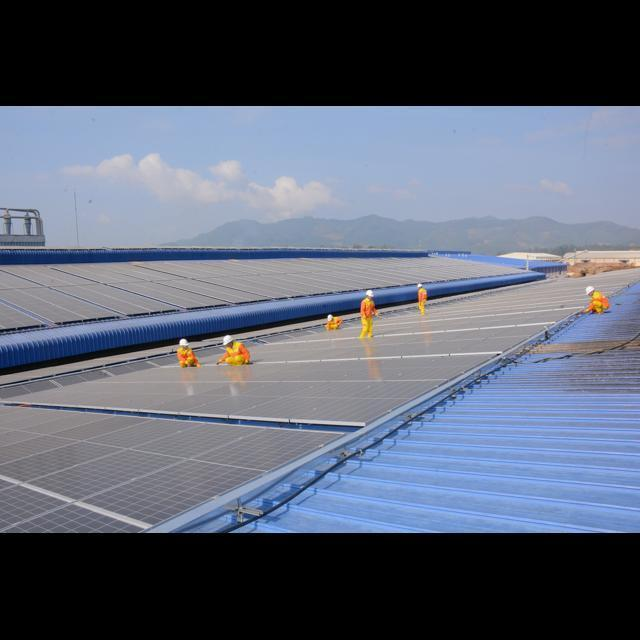Capacete: (585, 286, 595, 295), (223, 335, 232, 345), (179, 339, 188, 346), (327, 314, 333, 321), (366, 290, 373, 296), (417, 283, 423, 288)
Pessoa: (216, 335, 250, 365), (359, 290, 377, 337), (583, 286, 609, 313), (176, 338, 200, 367), (417, 283, 426, 314), (324, 314, 341, 330)
